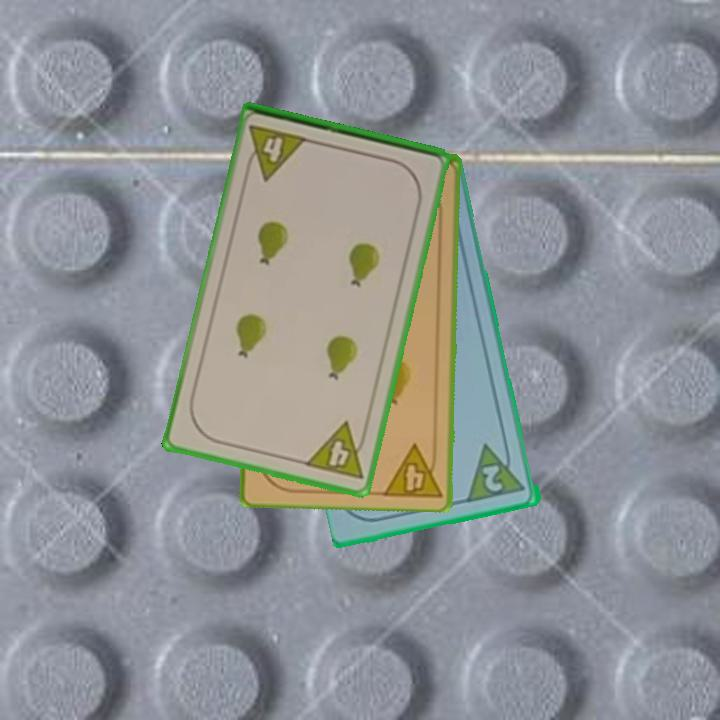2p: (465, 437, 529, 506)
4p: (301, 418, 372, 483), (241, 122, 311, 183), (379, 439, 444, 500)
